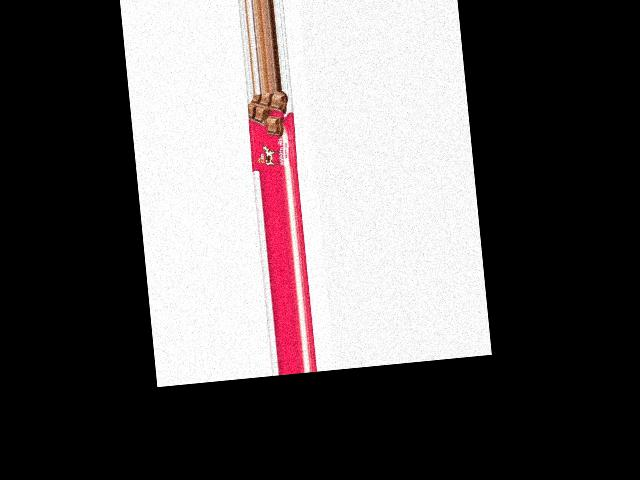chocolate: (246, 90, 299, 172)
